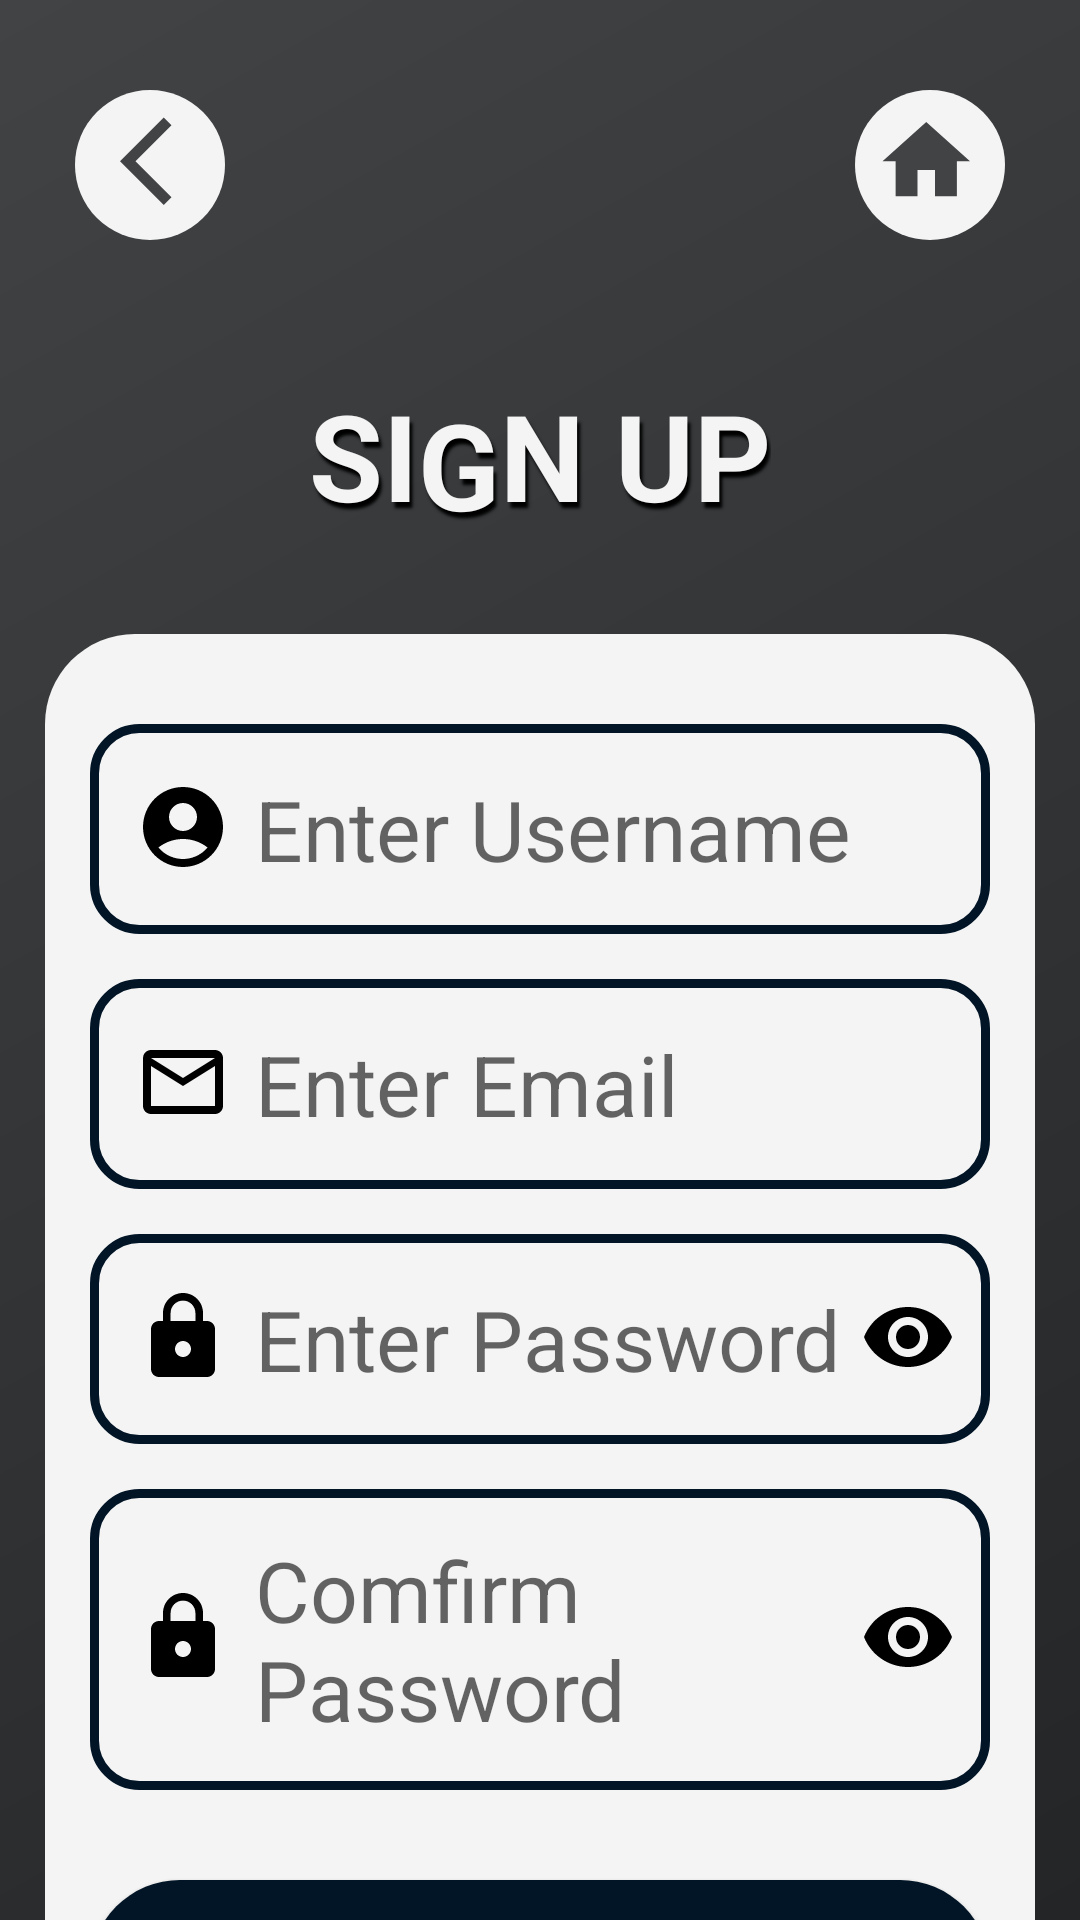

Icons on this 1080w x 1920h Android screen, each with its box as [x1,y1,x2,y2]:
back: [75,90,225,240]
eye: [864,1307,952,1367], [864,1607,952,1667]
home: [855,90,1005,240]
